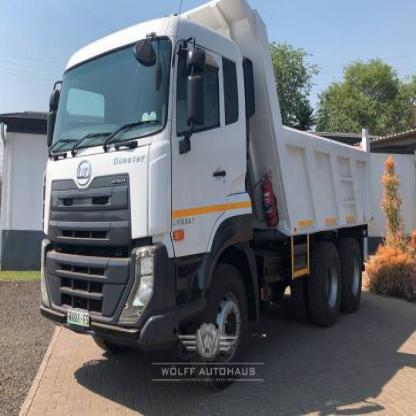dump_truck: (32, 4, 378, 396)
